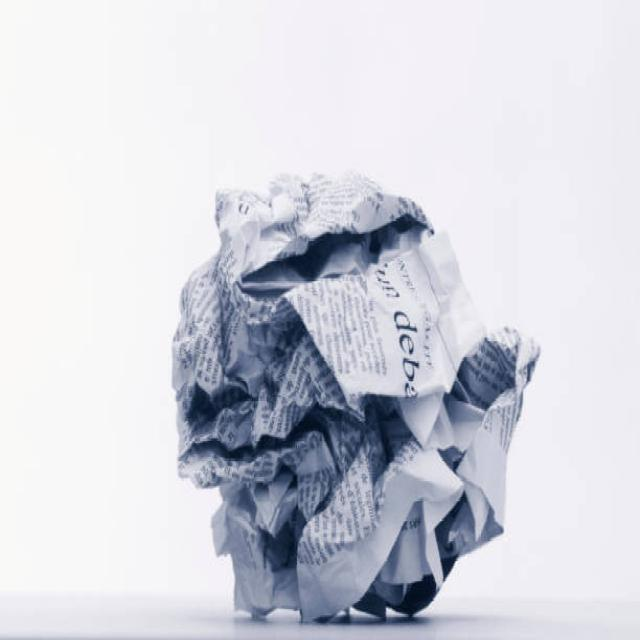electronic: (170, 168, 540, 623)
